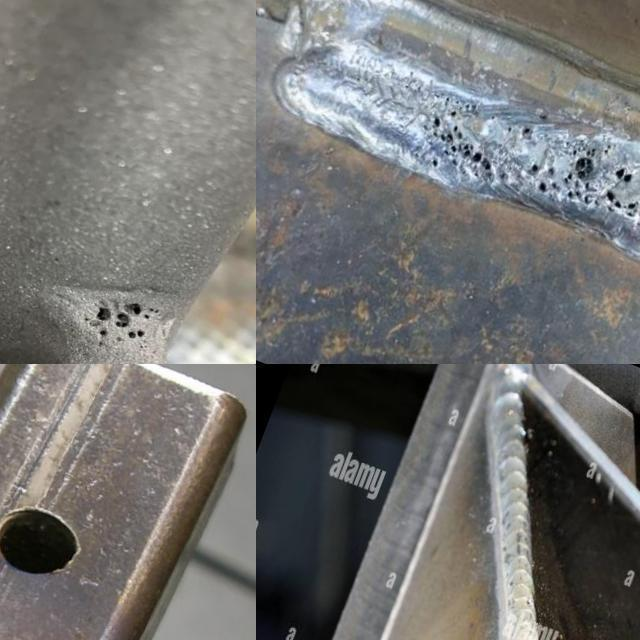defect: (528, 134, 640, 234), (425, 101, 498, 187), (126, 301, 165, 322), (516, 118, 537, 145), (92, 307, 113, 325), (113, 313, 134, 329), (125, 330, 147, 340), (97, 328, 109, 337), (137, 343, 148, 351), (94, 341, 105, 349), (116, 336, 126, 343)
